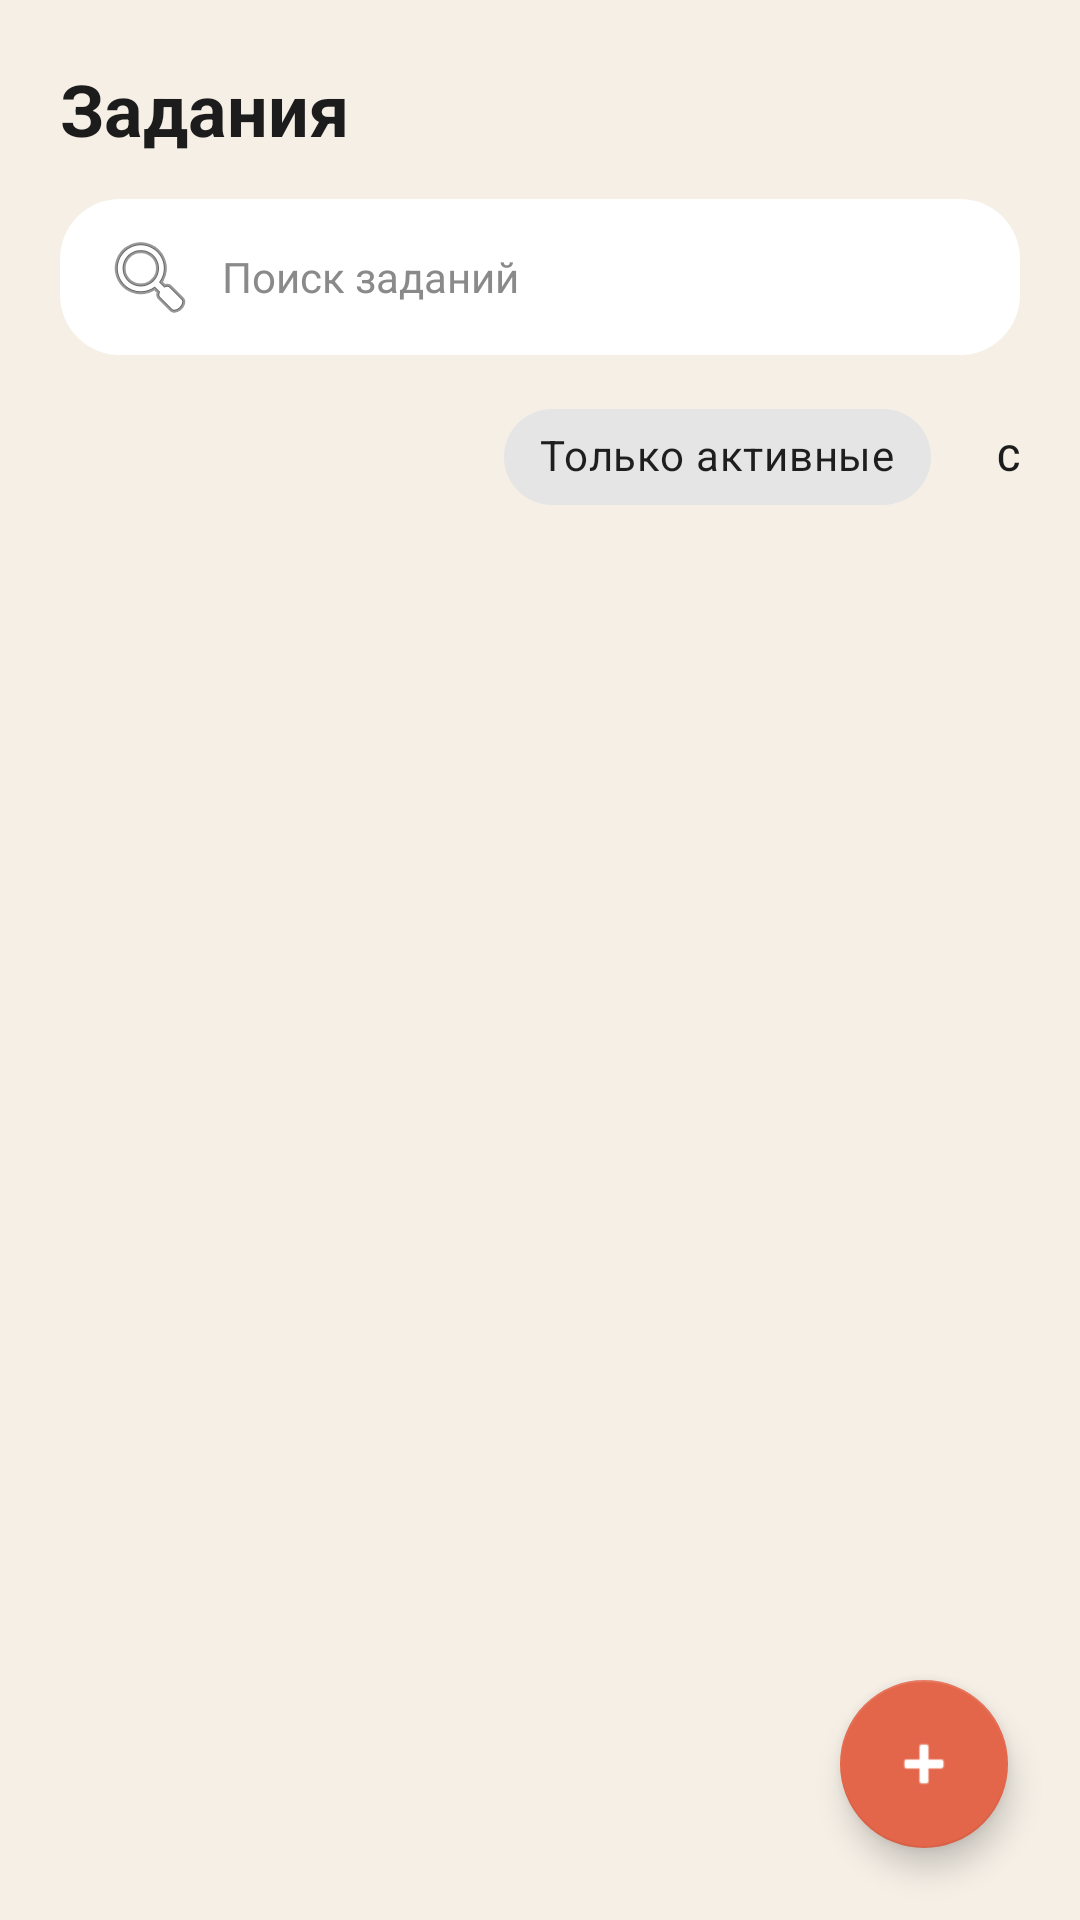

Icon bounding boxes for this 1080*1920 phone screenshot, format [x1,y1,x2,y2]:
Добавить задание: [840,1680,1008,1848]
